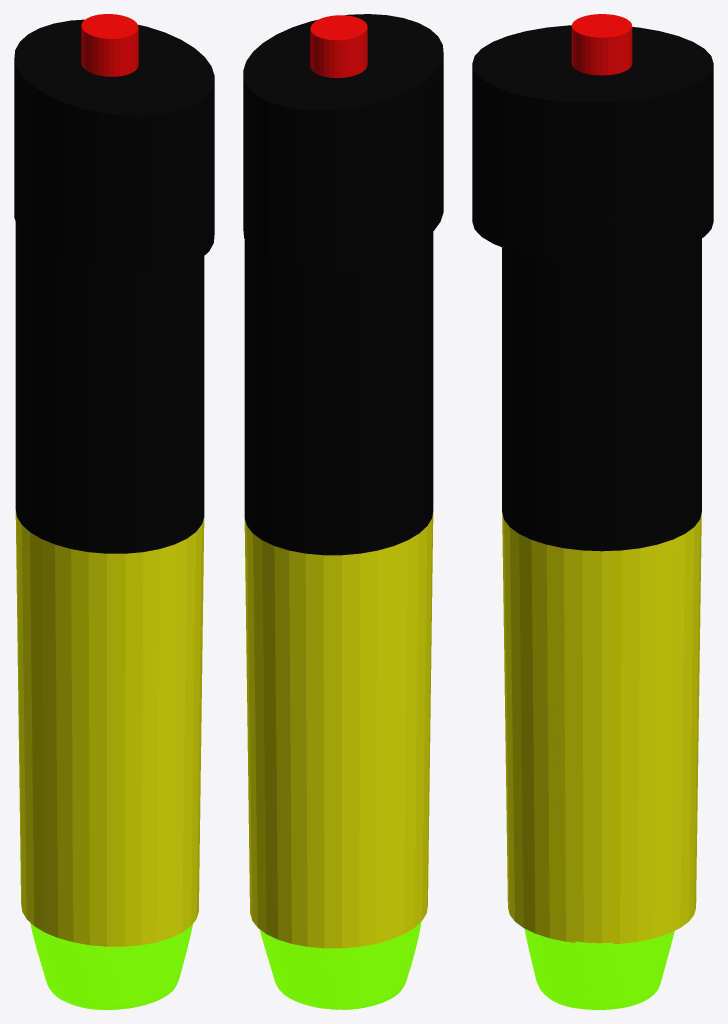
File: sanity.glb
3 renders of one model, left to right at view 1: azimuth 30°, elevation 25°; view 2: azimuth 150°, elevation 25°; view 3: azimuth 270°, elevation 25°, orthographic.
Visible parts, largest first — view 1: Cylinder.001, Cylinder.002, Cylinder, Mesh_0.001, Cylinder.003; view 2: Cylinder.001, Cylinder.002, Cylinder, Mesh_0.001, Cylinder.003; view 3: Cylinder.001, Cylinder.002, Cylinder, Mesh_0.001, Cylinder.003.
Boxes of the visible parts, box(x1,y1,x2,y2) form: Cylinder.001: box(15, 510, 204, 946); Cylinder.002: box(15, 181, 204, 553); Cylinder: box(14, 19, 214, 273); Mesh_0.001: box(30, 922, 192, 1009); Cylinder.003: box(81, 14, 138, 76); Cylinder.001: box(244, 512, 433, 948); Cylinder.002: box(244, 198, 433, 555); Cylinder: box(243, 14, 443, 268); Mesh_0.001: box(260, 922, 421, 1009); Cylinder.003: box(310, 15, 367, 77); Cylinder.001: box(502, 514, 701, 943); Cylinder.002: box(502, 214, 701, 551); Cylinder: box(472, 25, 713, 260); Mesh_0.001: box(524, 929, 674, 1009); Cylinder.003: box(571, 14, 632, 75).
Bounding box in the file's own units: 0.0679 × 0.3886 × 0.0885.
